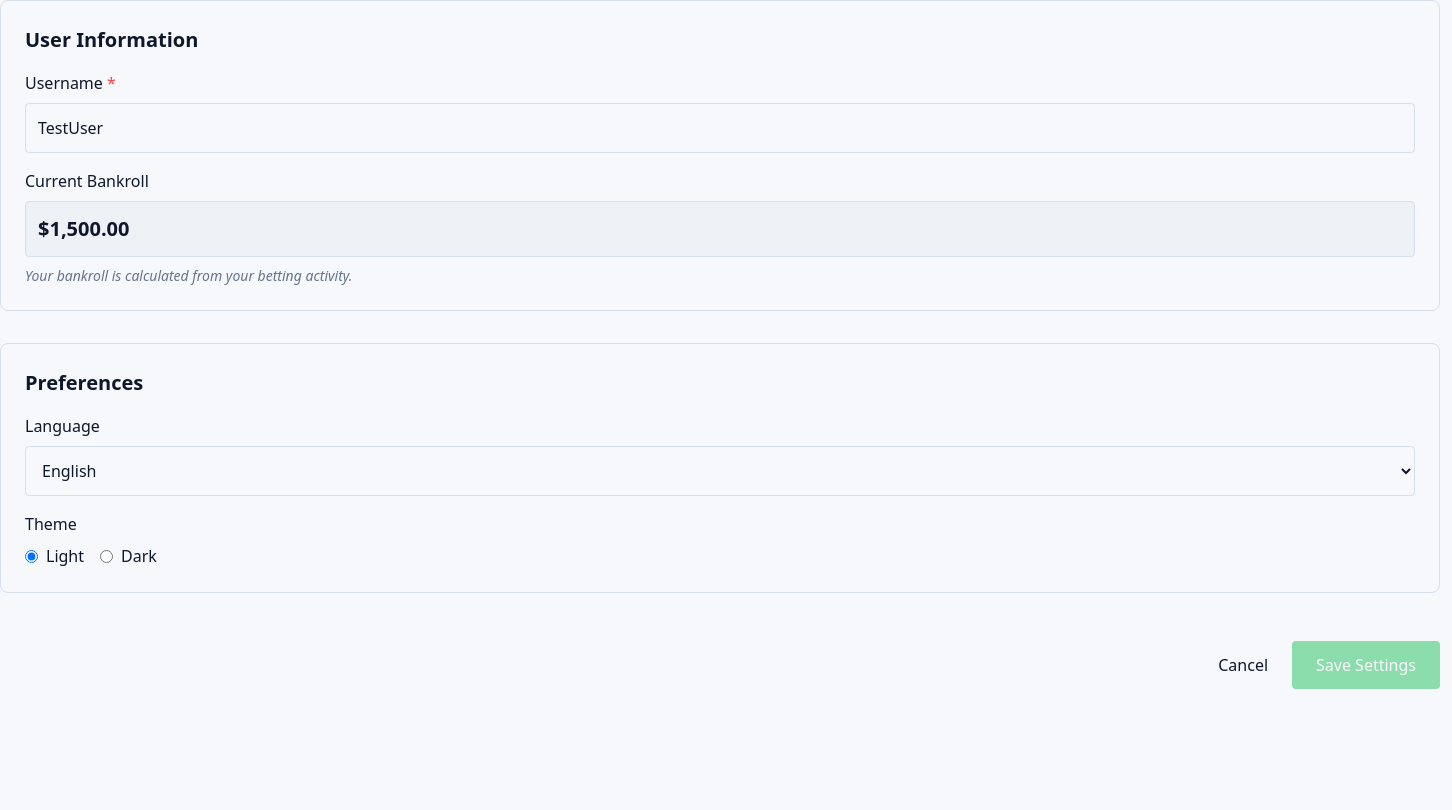
Test case: SettingsForm › Form State Management › disables Save button while mutation is pending
Replace the text in the field labelled "Username" with "NewUsername" at (720, 128), box x1=25 y1=103 x2=1415 y2=153
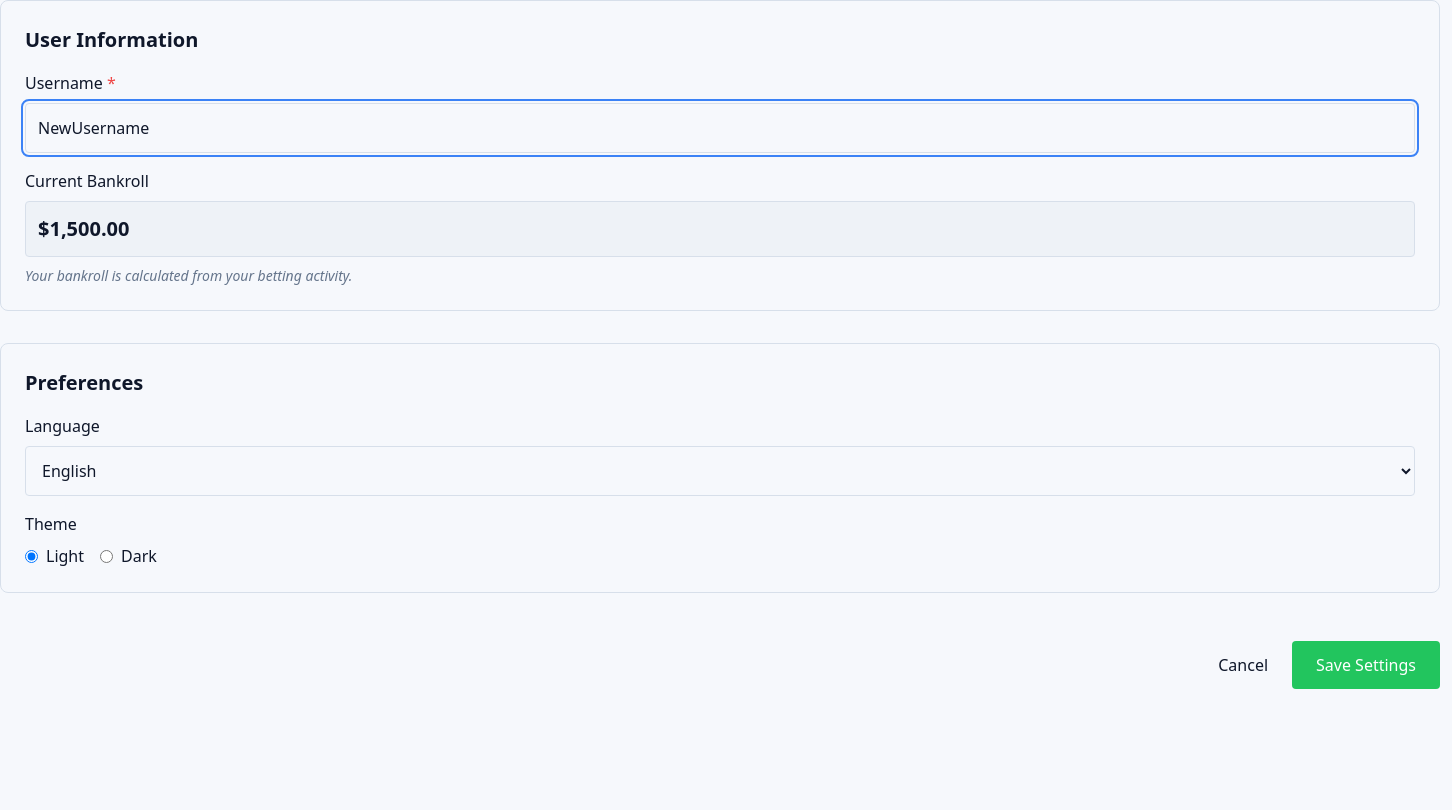
Click the button "Save Settings" at (1366, 665), box x1=1292 y1=641 x2=1440 y2=689
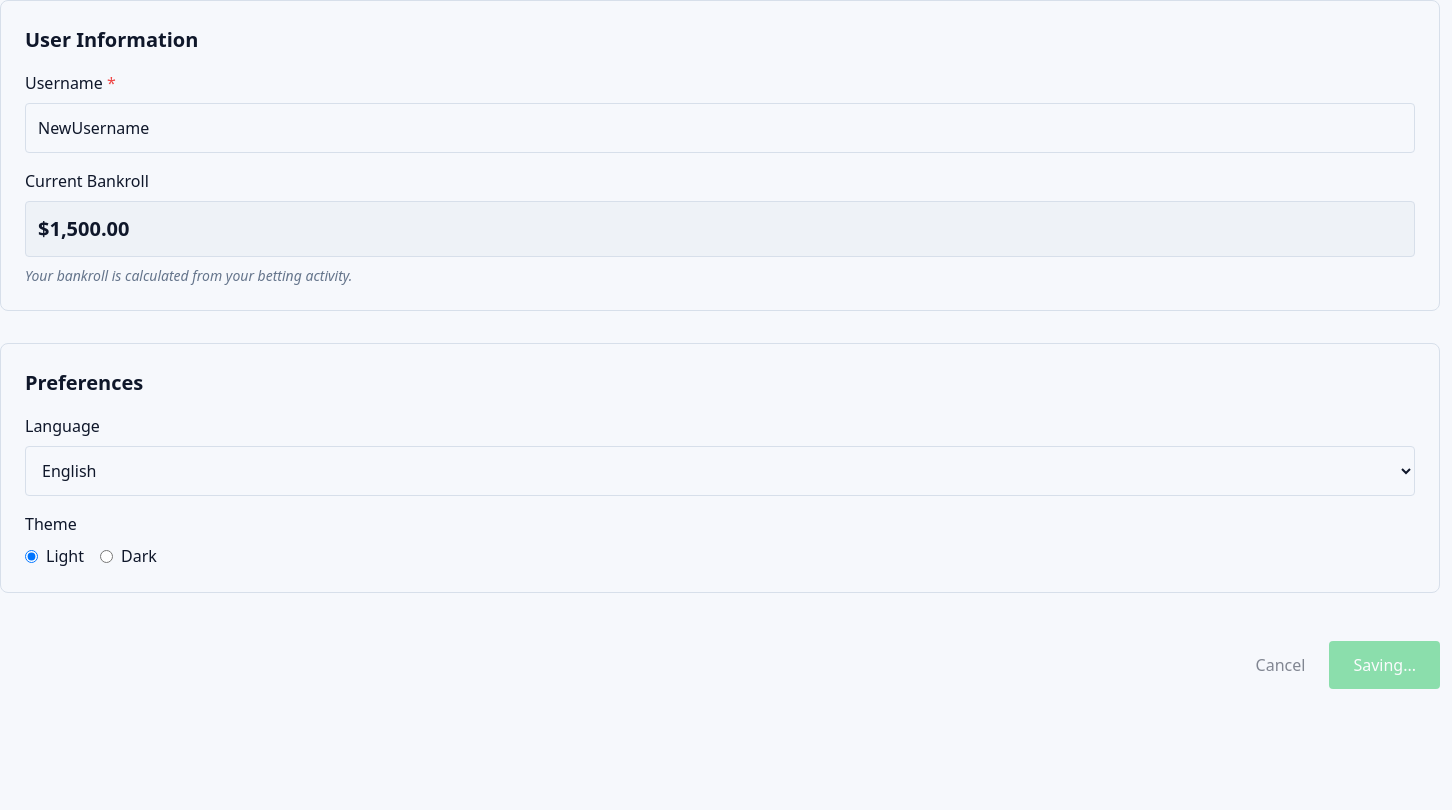
Result: the button "Saving..." is disabled at x1=1329 y1=641 x2=1440 y2=689
